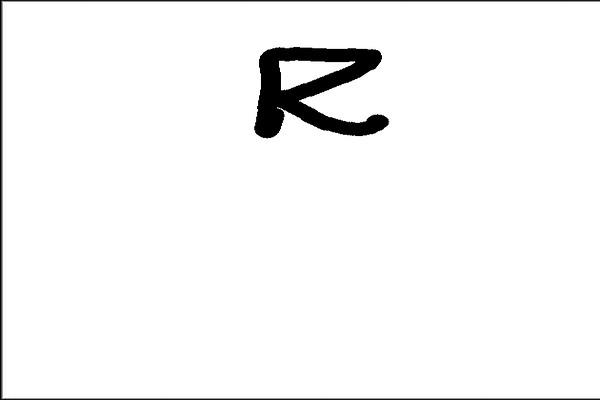R: (242, 31, 402, 145)
